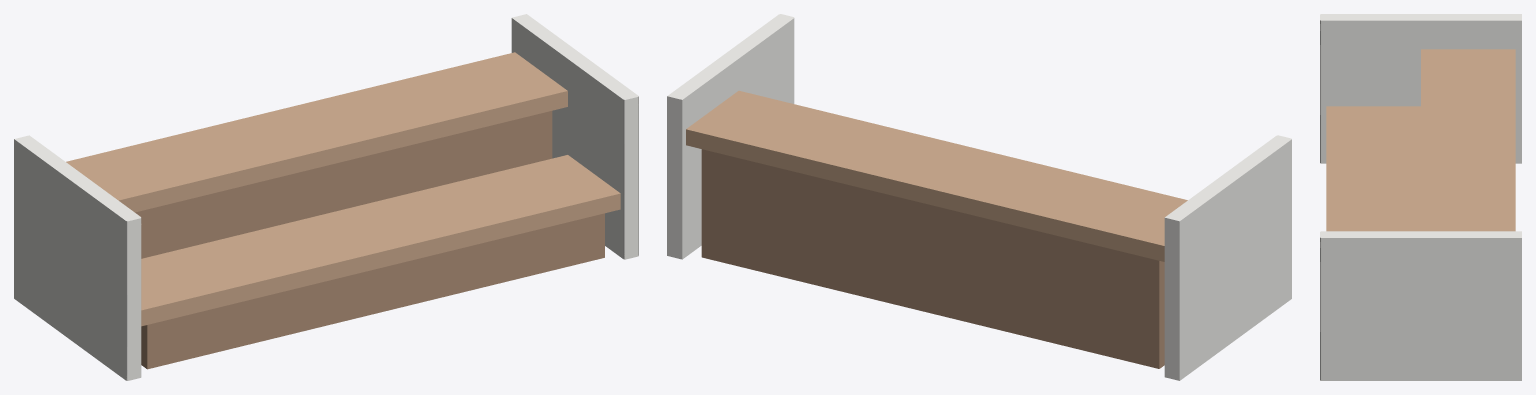
The model's file is steps.glb.
3 views of the same model, side by side, from view 1: azimuth 30°, elevation 25°; view 2: azimuth 150°, elevation 25°; view 3: azimuth 270°, elevation 25° (orthographic). The views are drawn at different scales.
Parts seen in each view (by area): view 1: steps_deck, steps_lattice, steps_trim; view 2: steps_lattice, steps_trim, steps_deck; view 3: steps_trim, steps_deck.
Part boxes in pixels (bbox=[...]): steps_deck: bbox=[66, 52, 620, 326]; steps_lattice: bbox=[135, 111, 604, 369]; steps_trim: bbox=[14, 14, 638, 380]; steps_lattice: bbox=[701, 149, 1164, 368]; steps_trim: bbox=[667, 14, 1291, 380]; steps_deck: bbox=[686, 90, 1187, 261]; steps_trim: bbox=[1320, 14, 1521, 380]; steps_deck: bbox=[1326, 49, 1515, 231].
Size of the model in its own units: 1.68 by 0.5 by 0.64.
